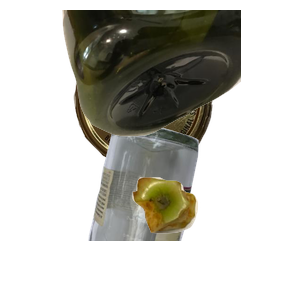glass: (86, 120, 277, 300)
metal: (71, 29, 276, 193)
plastic: (60, 10, 300, 139)
trash: (130, 175, 300, 300)
